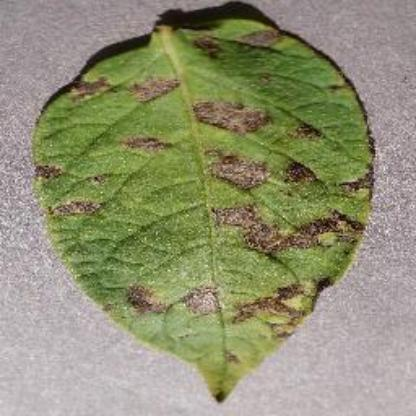Early-Blight: (26, 3, 412, 410)
